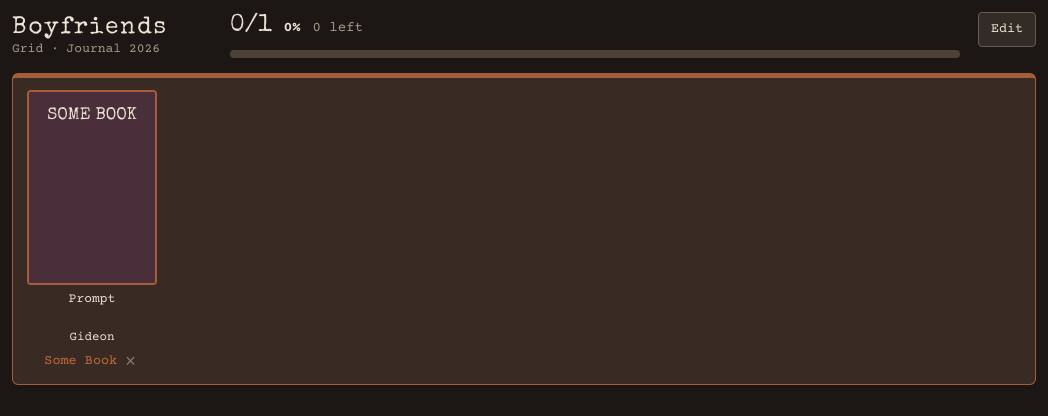
the note under a prompt › is plain text under the prompt name, changed by clicking it
Check: the text "Prompt" is shown, box left=69, top=292, right=115, bottom=306
Click the button with aria-label "Note: Gideon".
click(92, 336)  # box left=27, top=330, right=157, bottom=344
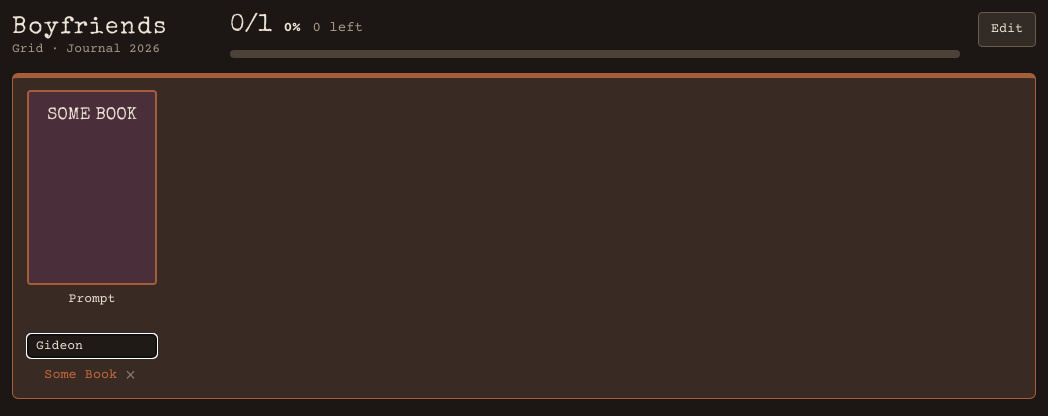
Replace the text in the field named "Note" with "Rhys" at x=92, y=346, box left=27, top=334, right=157, bottom=358
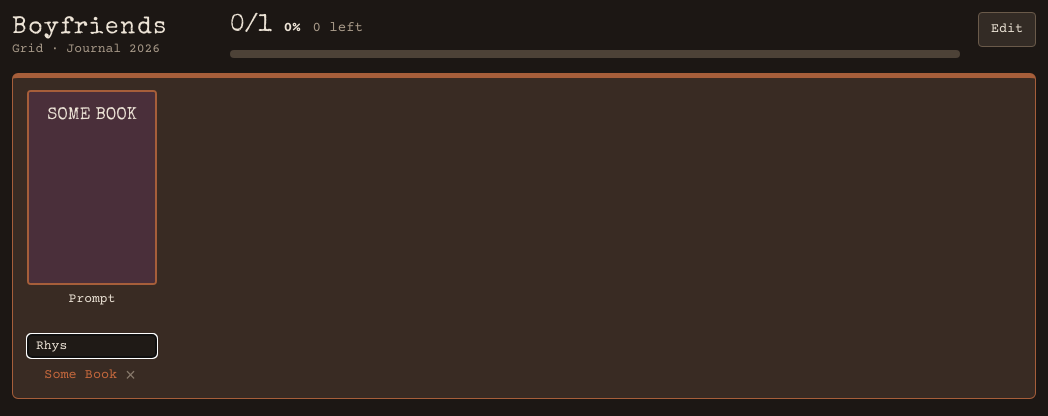
Press Enter in the field named "Note", box left=27, top=334, right=157, bottom=358
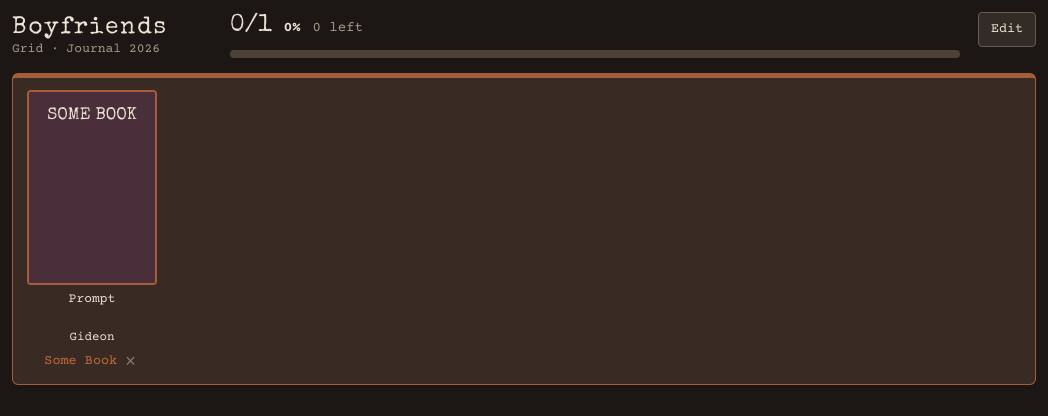
Check: the field labelled "Note" is gone
